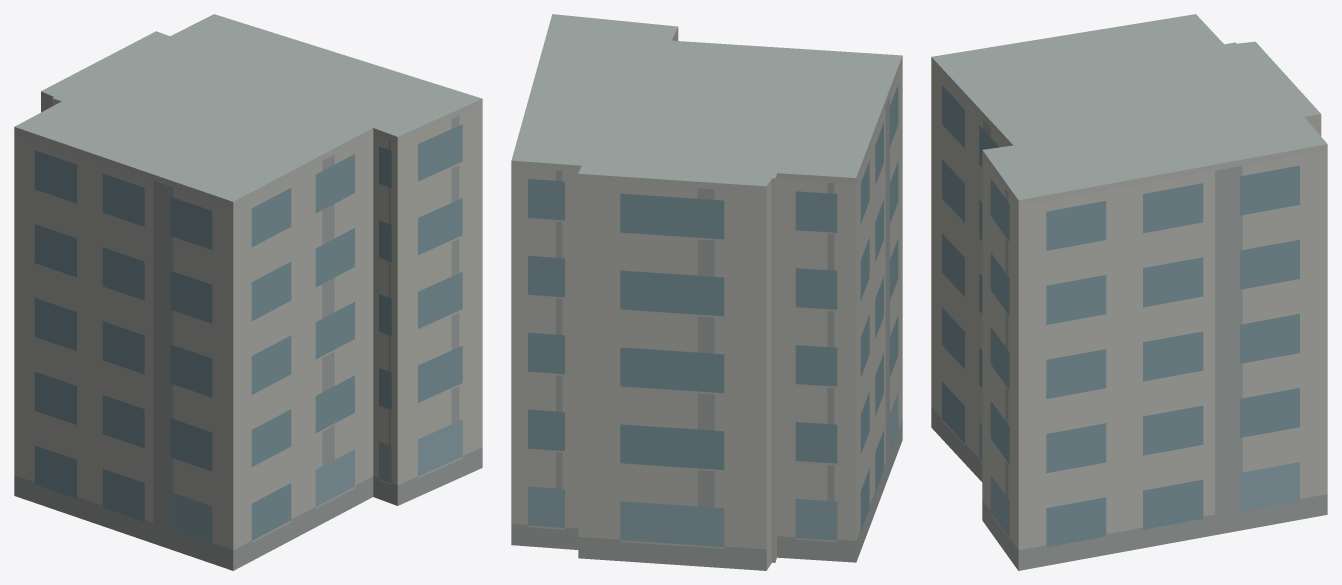
File: survey-upis-32943081.glb
3 renders of one model, left to right at view 1: azimuth 30°, elevation 25°; view 2: azimuth 150°, elevation 25°; view 3: azimuth 270°, elevation 25°, orthographic. The views are drawn at different scales.
Parts seen in each view (by area): view 1: survey-upis-32943081.tmp; view 2: survey-upis-32943081.tmp; view 3: survey-upis-32943081.tmp.
Part boxes in pixels (left/top/right/bottom): survey-upis-32943081.tmp: left=14, top=14, right=482, bottom=570; survey-upis-32943081.tmp: left=511, top=14, right=902, bottom=570; survey-upis-32943081.tmp: left=931, top=14, right=1327, bottom=570.
Bounding box in the file's own units: 15.42 × 14.3 × 13.87.
